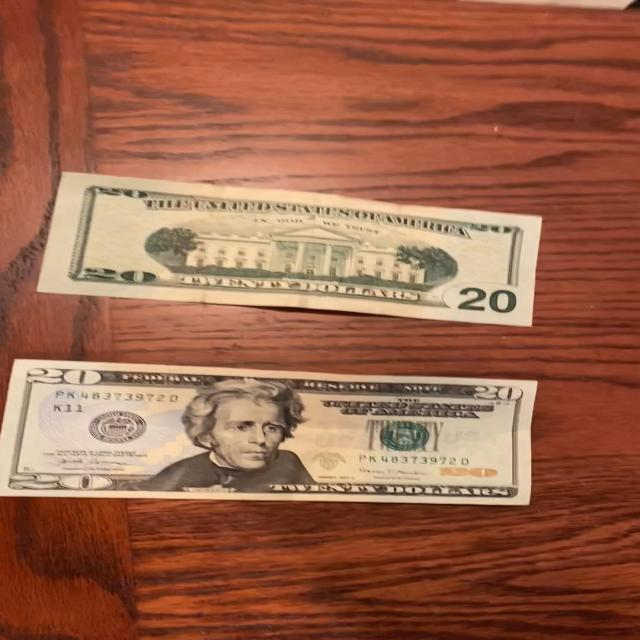20-Back: (38, 168, 545, 328)
20-Front: (0, 352, 543, 506)
